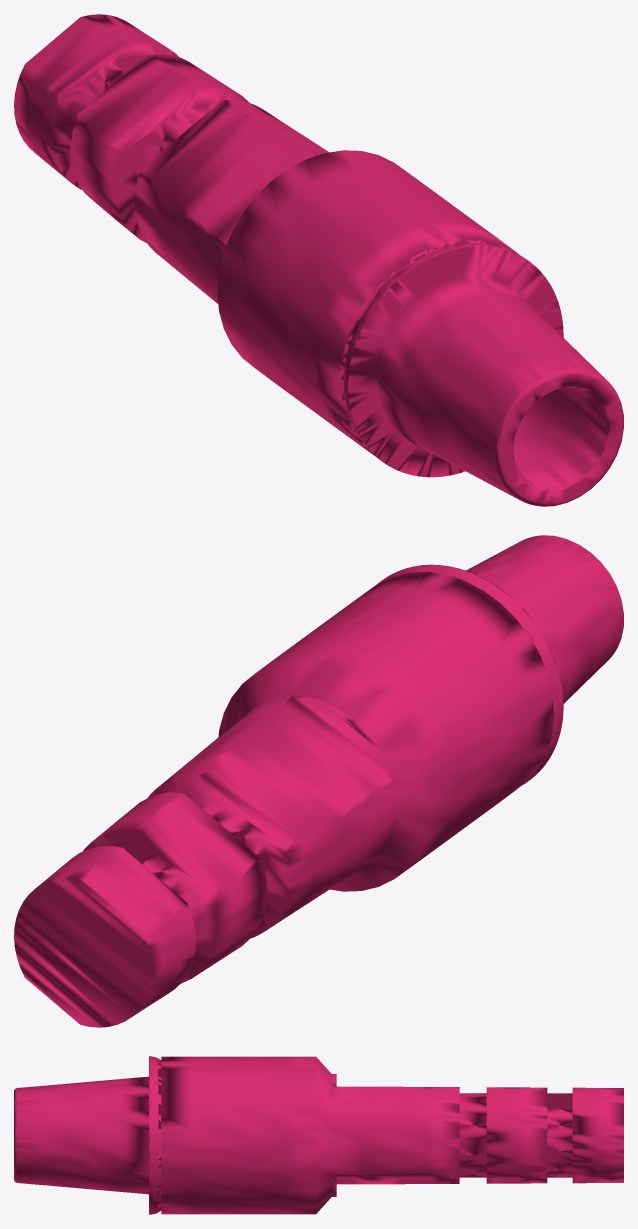
The model's file is implant_4.5c.obj.
The picture shows the model from 3 angles, top to bottom: view 1: azimuth 30°, elevation 25°; view 2: azimuth 150°, elevation 25°; view 3: azimuth 270°, elevation 25°; orthographic projection. The views are drawn at different scales.
Size of the model in its own units: 4.7 by 4.7 by 18.08.
